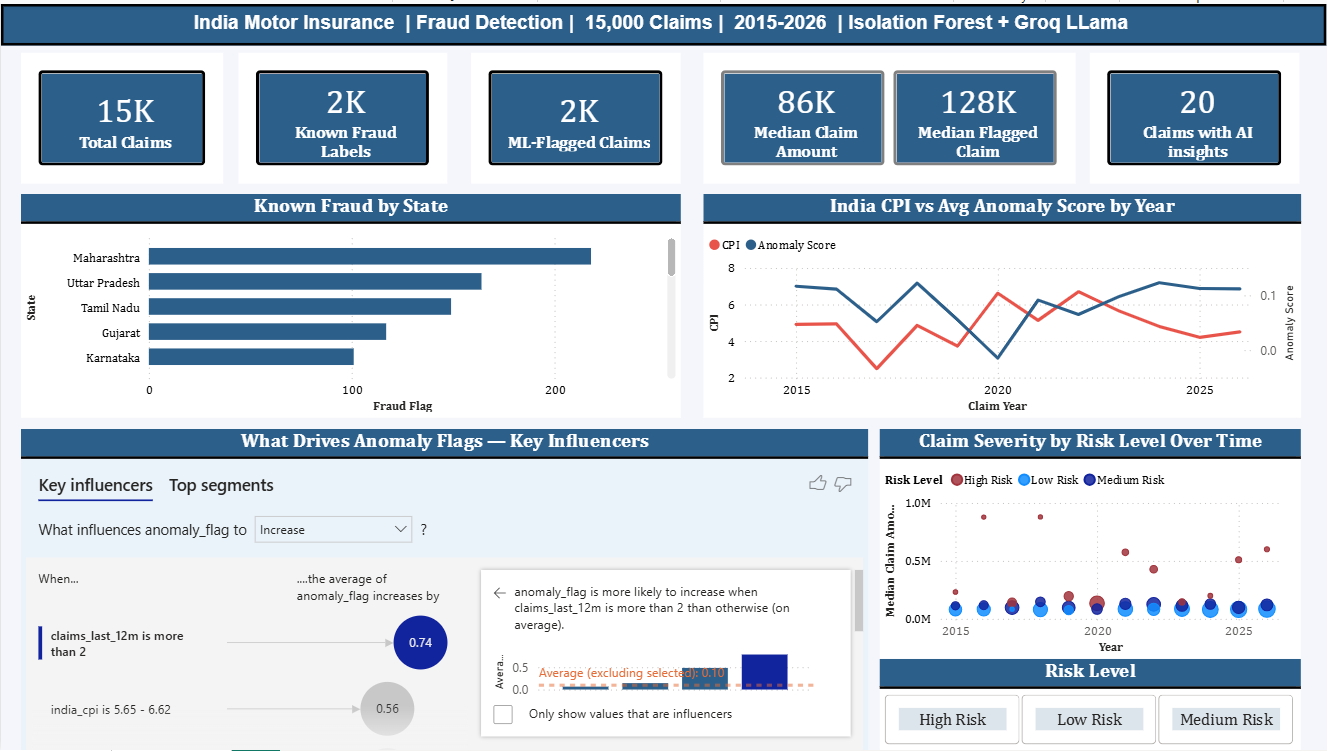

The page's visual inventory and layout, read from the dashboard file:
{"tool":"powerbi","page":{"name":"Fraud Overview","canvas":[1280,720],"ordinal":0},"visuals":[{"type":"textbox","box":[0,0,1280.3,39.8],"z":0},{"type":"cardVisual","title":"Total Claims","fields":{"Data":["CountNonNull(Insurance_Claims.claim_id)"]},"box":[19.3,47.1,195.4,126.7],"z":1000},{"type":"cardVisual","title":"Known Fraud Labels","fields":{"Data":["Sum(Insurance_Claims.fraud_flag)"]},"box":[229.2,47.1,201.5,126.7],"z":2000},{"type":"cardVisual","title":"ML-Flagged Claims","fields":{"Data":["Sum(Insurance_Claims.anomaly_flag)"]},"box":[453.6,47.1,202.7,126.7],"z":3000},{"type":"cardVisual","title":"Median Claim Amount (₹)","fields":{"Data":["Insurance_Claims.Median Claim Amount","Insurance_Claims.Median Flagged Claim"]},"box":[678,47.1,359.5,126.7],"z":4000},{"type":"cardVisual","fields":{"Data":["CountNonNull(Insurance_Claims.ai_analysis_requested)"]},"box":[1050.8,47.1,202.7,126.7],"z":5000},{"type":"clusteredBarChart","title":"Known Fraud by State","fields":{"Category":["Insurance_Claims.state"],"Y":["Sum(Insurance_Claims.fraud_flag)"]},"box":[19.3,183.4,637,216],"z":6000},{"type":"lineChart","title":"India CPI vs Avg Anomaly Score by Year","fields":{"Category":["Insurance_Claims.claim_year"],"Y":["Avg(Insurance_Claims.india_cpi)"],"Y2":["Avg(Insurance_Claims.anomaly_score)"]},"box":[678,183.4,576.7,216],"z":7000},{"type":"scatterChart","title":"Claim Severity by Risk Level Over Time","fields":{"Series":["Insurance_Claims.risk_level"],"Size":["Sum(Insurance_Claims.claims_last_12m)"],"Y":["Insurance_Claims.Median Claim Amount"],"X":["Insurance_Claims.claim_date.Variation.Date Hierarchy.Year"]},"box":[848.1,410.2,406.6,222],"z":9000},{"type":"advancedSlicerVisual","title":"Risk Level","fields":{"Values":["Insurance_Claims.risk_level"]},"box":[848.1,632.2,406.6,88.1],"z":10000},{"type":"keyDriversVisual","title":"What Drives Anomaly Flags — Key Influencers","fields":{"Target":["Insurance_Claims.anomaly_flag"],"ExplainBy":["Insurance_Claims.claims_last_12m","Insurance_Claims.days_to_report","Insurance_Claims.garage_type","Insurance_Claims.policy_age_months","Insurance_Claims.vehicle_age_years","Insurance_Claims.india_cpi","Insurance_Claims.india_gdp_growth"]},"box":[19.3,410.2,818,310.1],"z":14001}]}

Visuals, with their boxes in screenshot pixels (x1, y1, x2, y2), scaled from the page's 1280x720 canvas onto the 1327x751 screenshot:
textbox: [left=0, top=0, right=1326, bottom=42]
"Total Claims" cardVisual: [left=20, top=49, right=223, bottom=181]
"Known Fraud Labels" cardVisual: [left=238, top=49, right=447, bottom=181]
"ML-Flagged Claims" cardVisual: [left=470, top=49, right=680, bottom=181]
"Median Claim Amount (₹)" cardVisual: [left=703, top=49, right=1076, bottom=181]
cardVisual - CountNonNull(Insurance_Claims.ai_analysis_requested): [left=1089, top=49, right=1300, bottom=181]
"Known Fraud by State" clusteredBarChart: [left=20, top=191, right=680, bottom=417]
"India CPI vs Avg Anomaly Score by Year" lineChart: [left=703, top=191, right=1301, bottom=417]
"Claim Severity by Risk Level Over Time" scatterChart: [left=879, top=428, right=1301, bottom=659]
"Risk Level" advancedSlicerVisual: [left=879, top=659, right=1301, bottom=750]
"What Drives Anomaly Flags — Key Influencers" keyDriversVisual: [left=20, top=428, right=868, bottom=750]
